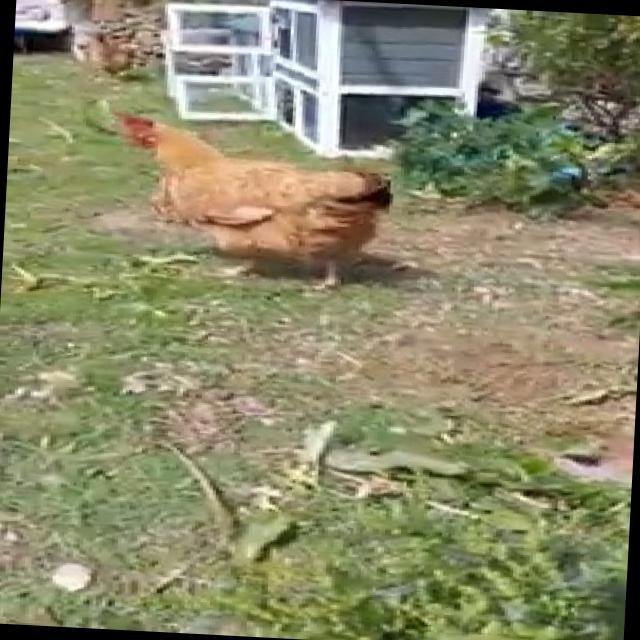walking: (105, 117, 402, 326)
